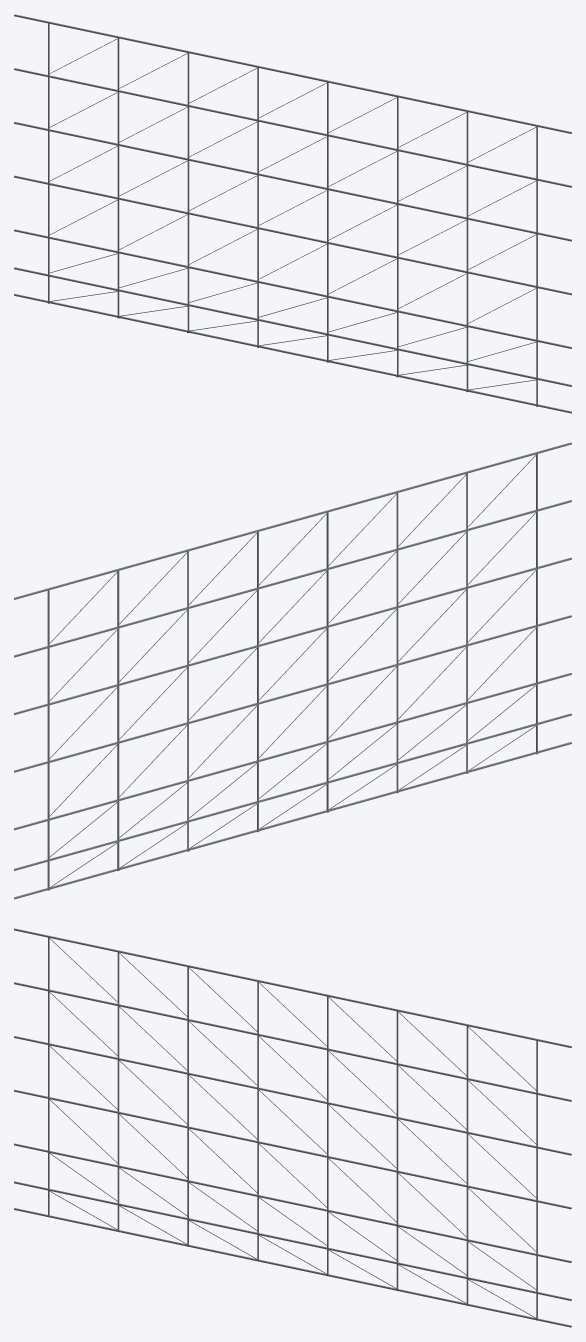
The model's file is G7_MiddleExterior_E01_r001.glb.
3 views of the same model, one above another, from view 1: azimuth 90°, elevation 25°; view 2: azimuth 150°, elevation 25°; view 3: azimuth 270°, elevation 25° (orthographic). The views are drawn at different scales.
Visible parts, largest first — view 1: G7_MiddleExterior_E01_frame; view 2: G7_MiddleExterior_E01_frame; view 3: G7_MiddleExterior_E01_frame.
Part boxes in pixels (left/top/right/bottom): G7_MiddleExterior_E01_frame: left=14, top=14, right=571, bottom=413; G7_MiddleExterior_E01_frame: left=14, top=442, right=571, bottom=899; G7_MiddleExterior_E01_frame: left=14, top=928, right=571, bottom=1327.
Bounding box in the file's own units: 40.13 × 44.5 × 79.98.
2 materials, 2 textured.
